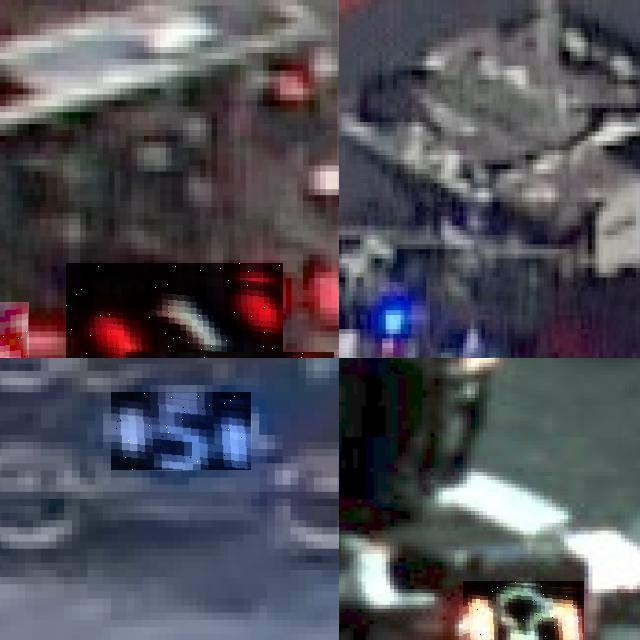B5: (111, 392, 251, 470)
R1: (66, 263, 283, 358)
Rs: (462, 581, 584, 640)
